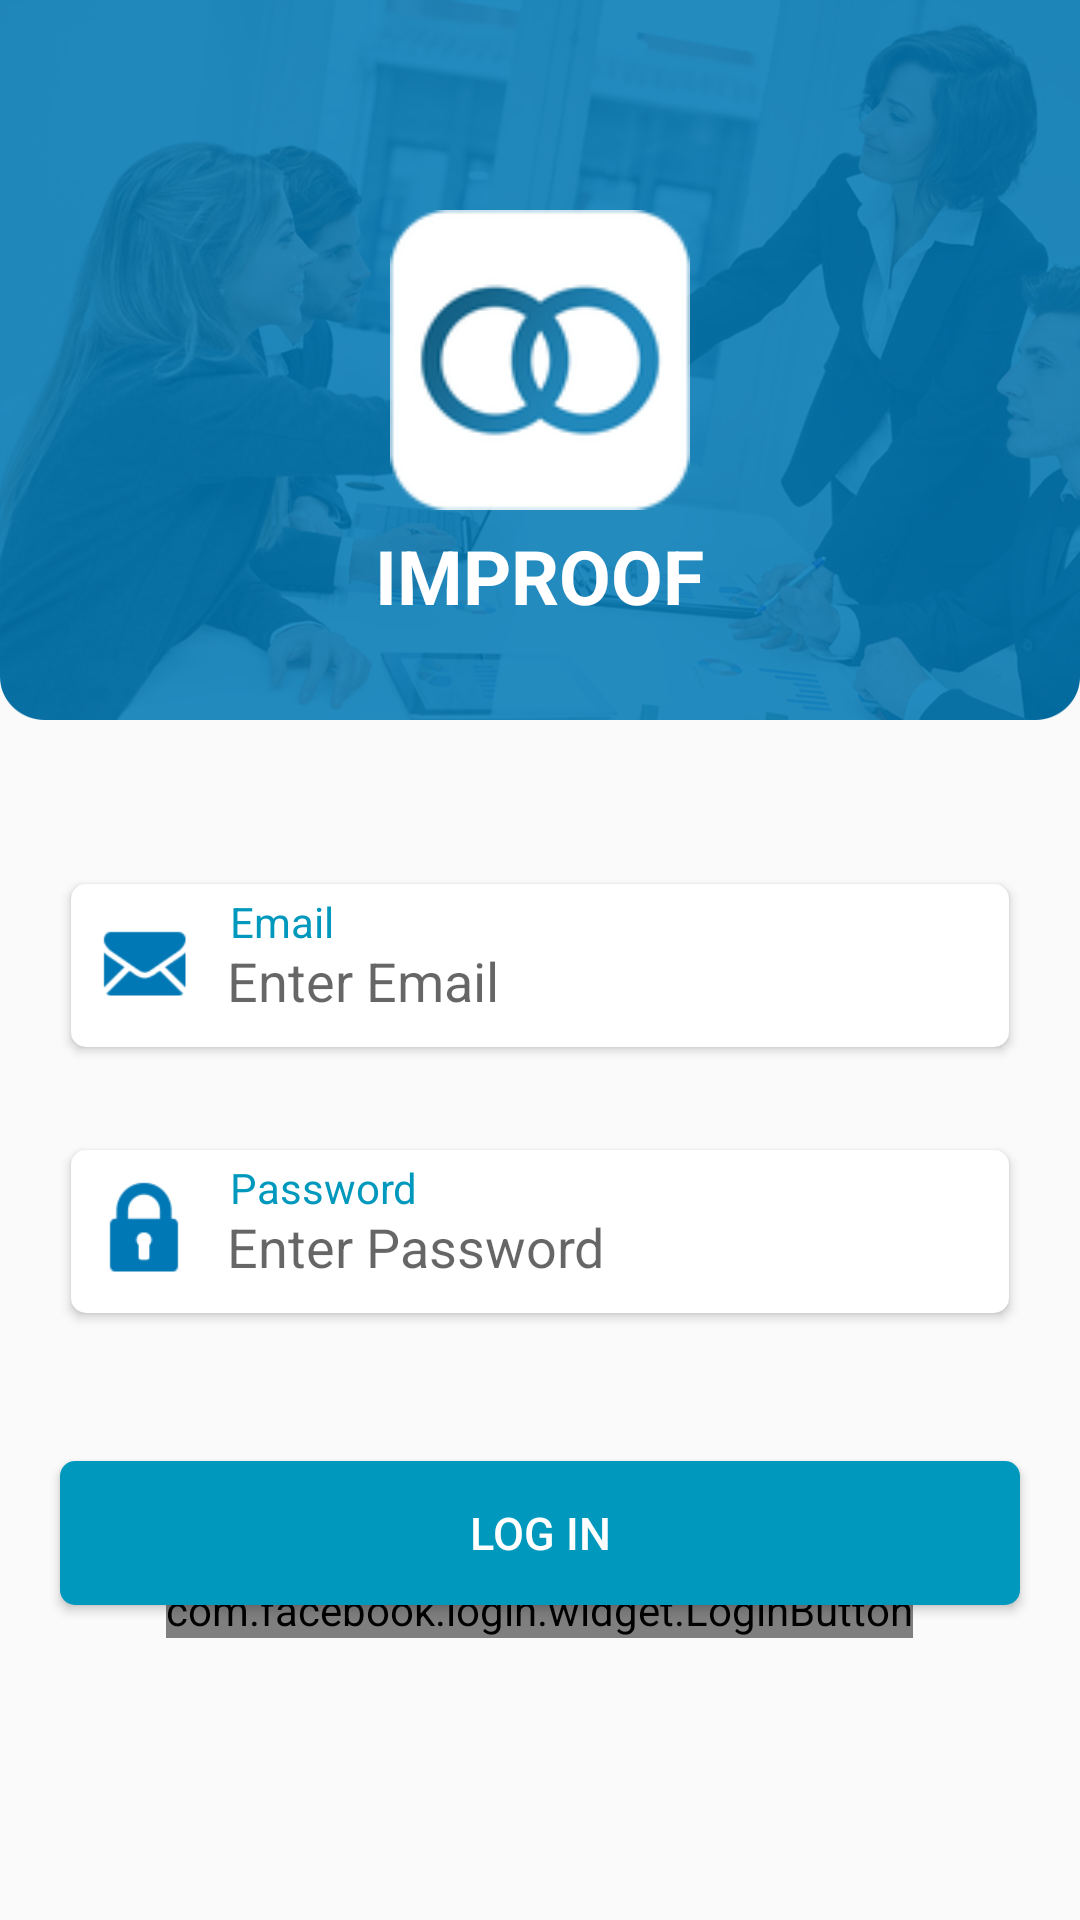

Icon bounding boxes for this 1080 x 1920 phone screenshot, format BBox(x1, y1, x2, y2):
lock: BBox(109, 1182, 179, 1272)
